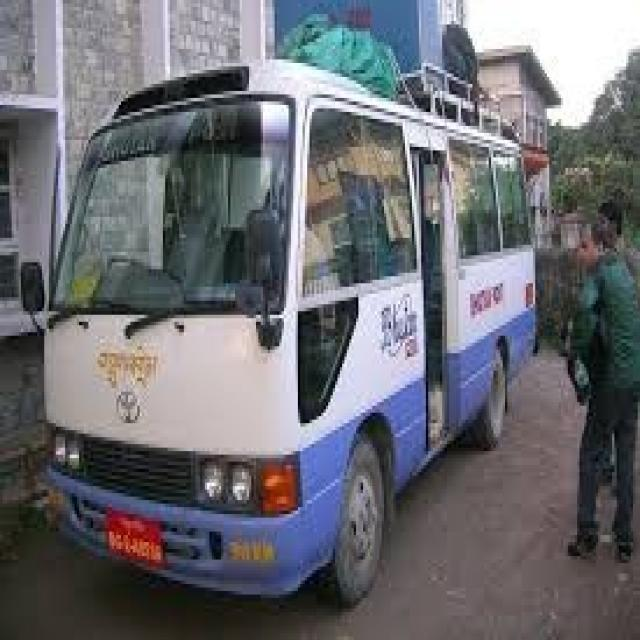bus: (20, 33, 547, 619)
